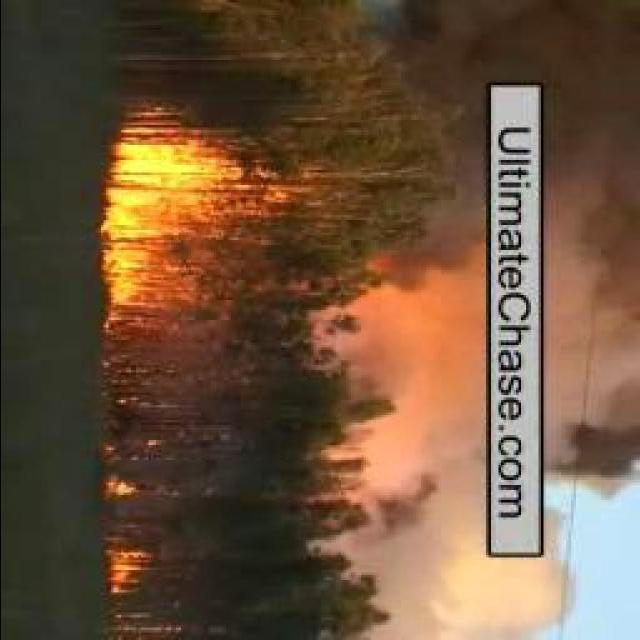Fire: (105, 120, 239, 323), (102, 542, 152, 596), (103, 474, 137, 496)
